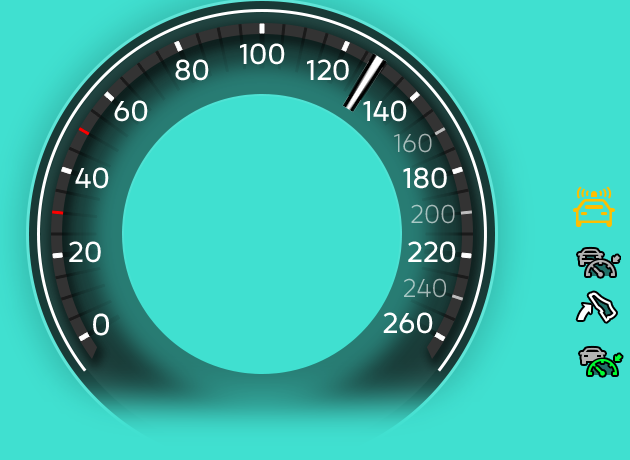ACCELERATOR: (571, 290, 630, 334)
ACC_AKTIV: (573, 240, 626, 285)
ACC_OVER: (571, 340, 627, 378)
SEV_INF: (570, 183, 619, 236)
TUBE: (22, 1, 508, 453)
